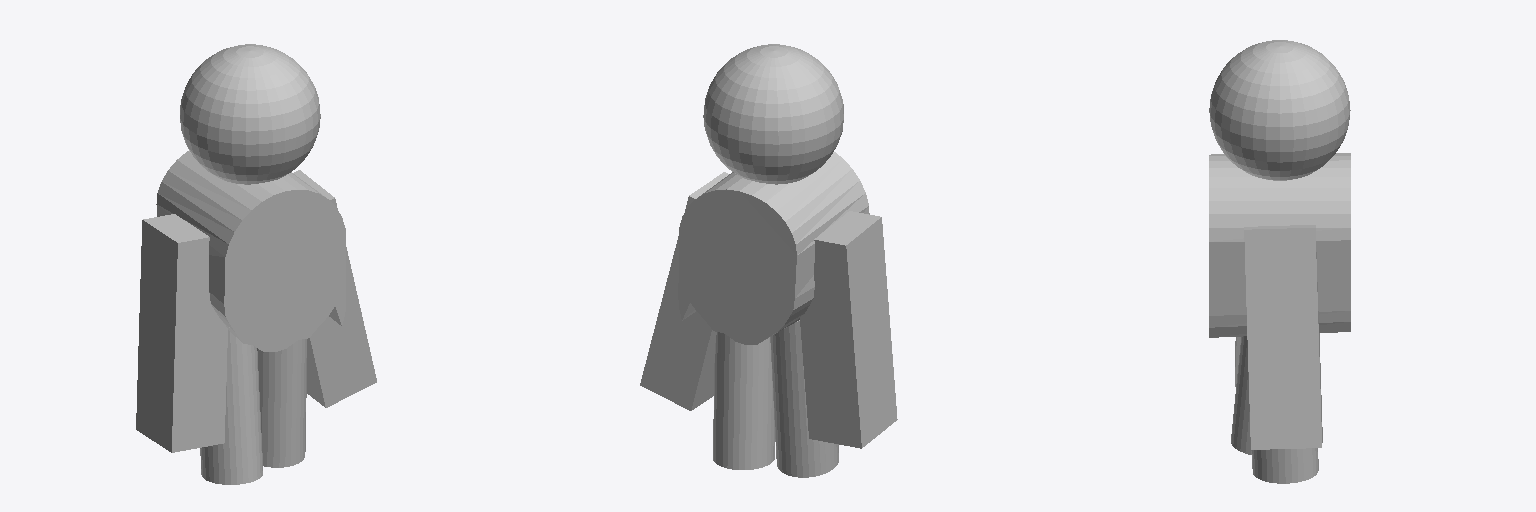
File: Figurine135.obj
3 views of the same model, side by side, from view 1: azimuth 30°, elevation 25°; view 2: azimuth 150°, elevation 25°; view 3: azimuth 270°, elevation 25° (orthographic).
Visible parts, largest first — view 1: Cylinder; view 2: Cylinder; view 3: Cylinder.
Boxes of the visible parts, <box> form: Cylinder: <box>136,44,376,484</box>; Cylinder: <box>640,44,897,477</box>; Cylinder: <box>1209,40,1350,483</box>.
Bounding box in the file's own units: 3.49 × 6.45 × 2.